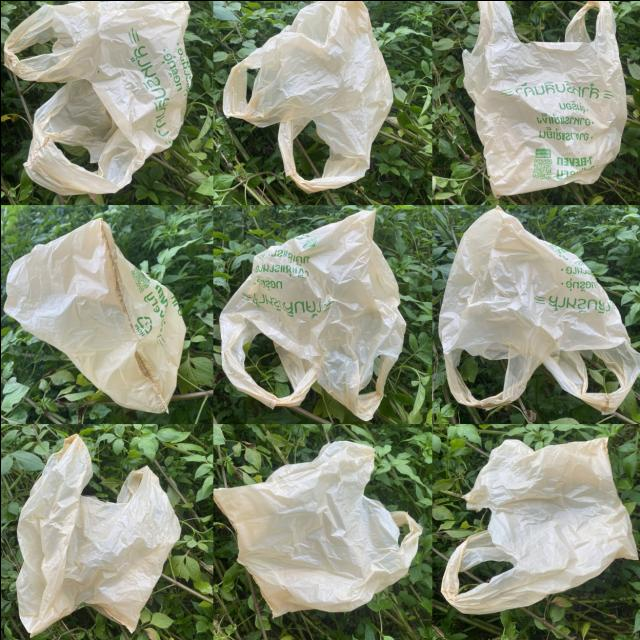plastik: (437, 207, 640, 412), (219, 210, 405, 419), (4, 0, 191, 194), (213, 441, 421, 615), (4, 217, 185, 412), (440, 437, 636, 613), (15, 434, 179, 634), (222, 0, 392, 192), (462, 0, 626, 195)
